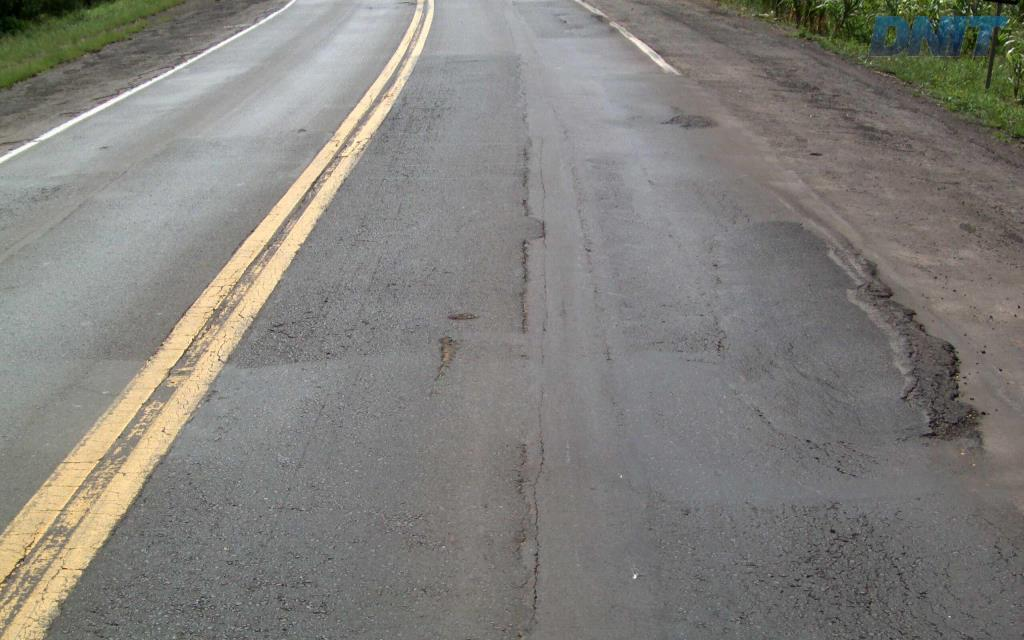crack: (813, 524, 911, 598), (835, 558, 883, 598)
pothole: (425, 333, 461, 390), (440, 306, 485, 320)
